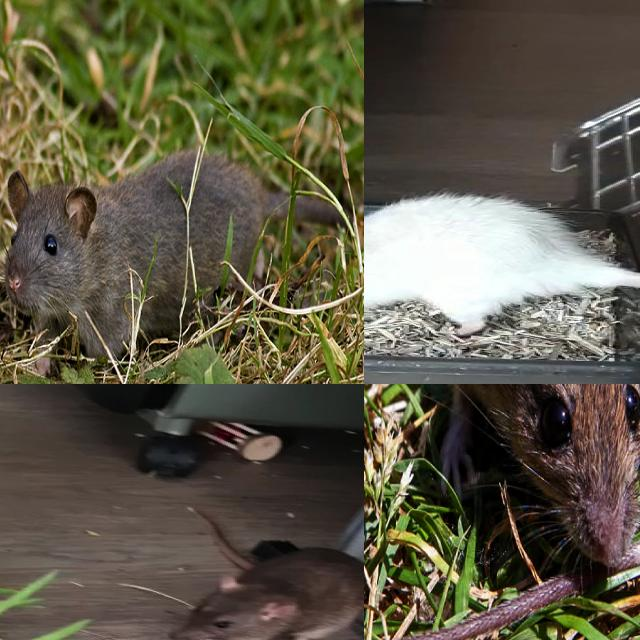rat: (5, 152, 272, 351), (448, 384, 640, 559), (364, 194, 601, 334), (158, 545, 364, 640)
